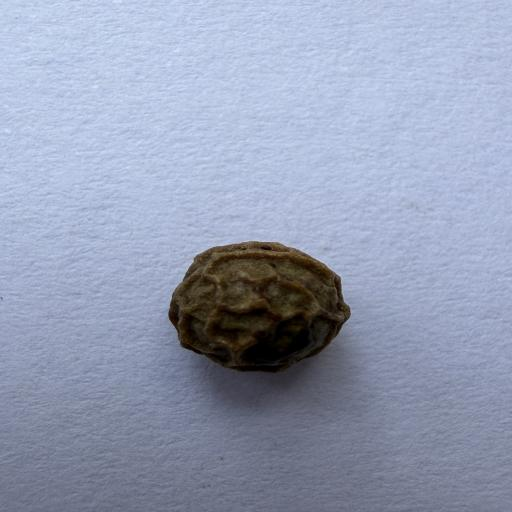Black_pepper: (125, 225, 379, 393)
